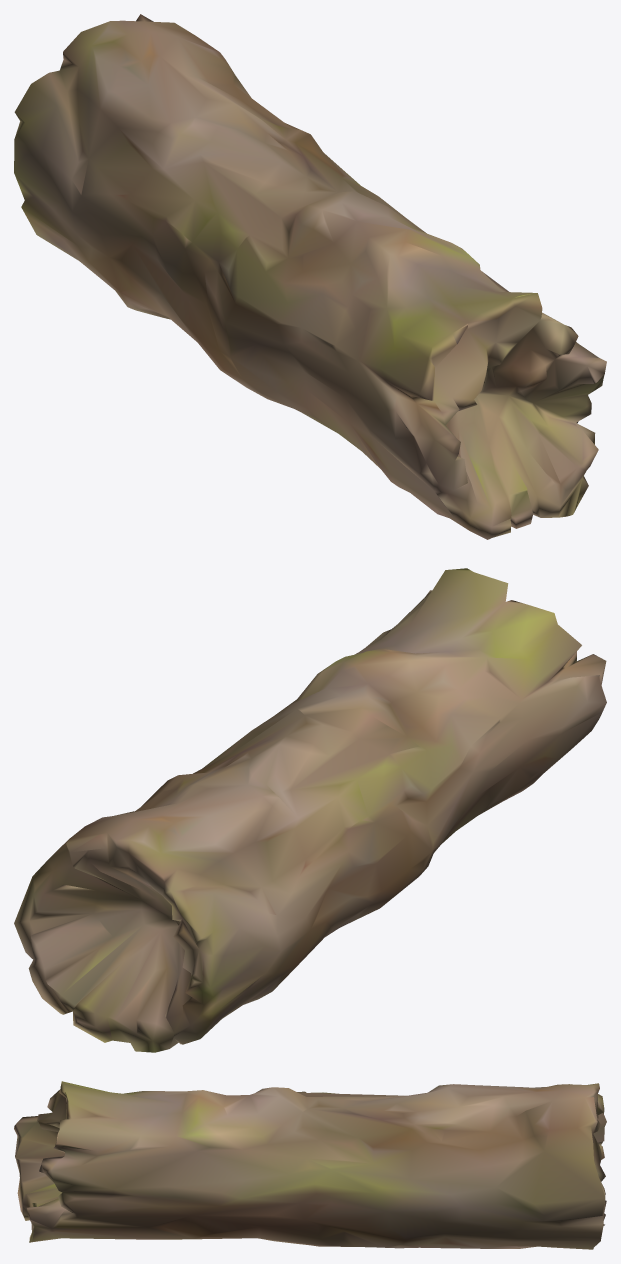
File: FallenLog_game.glb
3 renders of one model, top to bottom at view 1: azimuth 30°, elevation 25°; view 2: azimuth 150°, elevation 25°; view 3: azimuth 270°, elevation 25°, orthographic. The views are drawn at different scales.
Visible parts, largest first — view 1: FallenLog; view 2: FallenLog; view 3: FallenLog.
Boxes of the visible parts, box(x1,y1,x2,y2) form: FallenLog: box(14, 14, 606, 539); FallenLog: box(14, 568, 606, 1052); FallenLog: box(14, 1081, 606, 1249).
Size of the model in its own units: 0.3325 by 0.3334 by 1.16.
